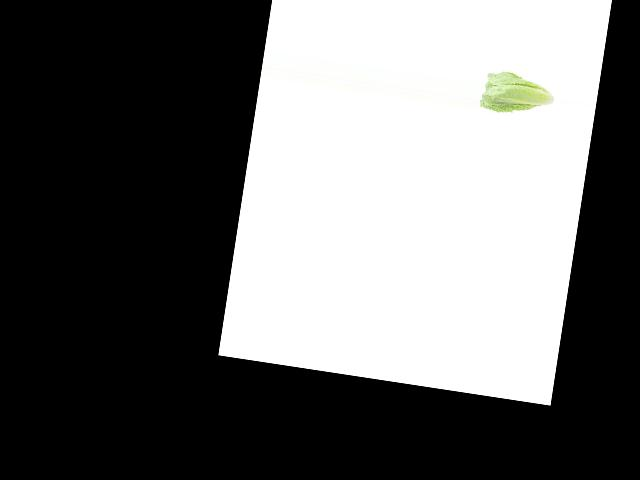lettuce: (478, 63, 557, 122)
